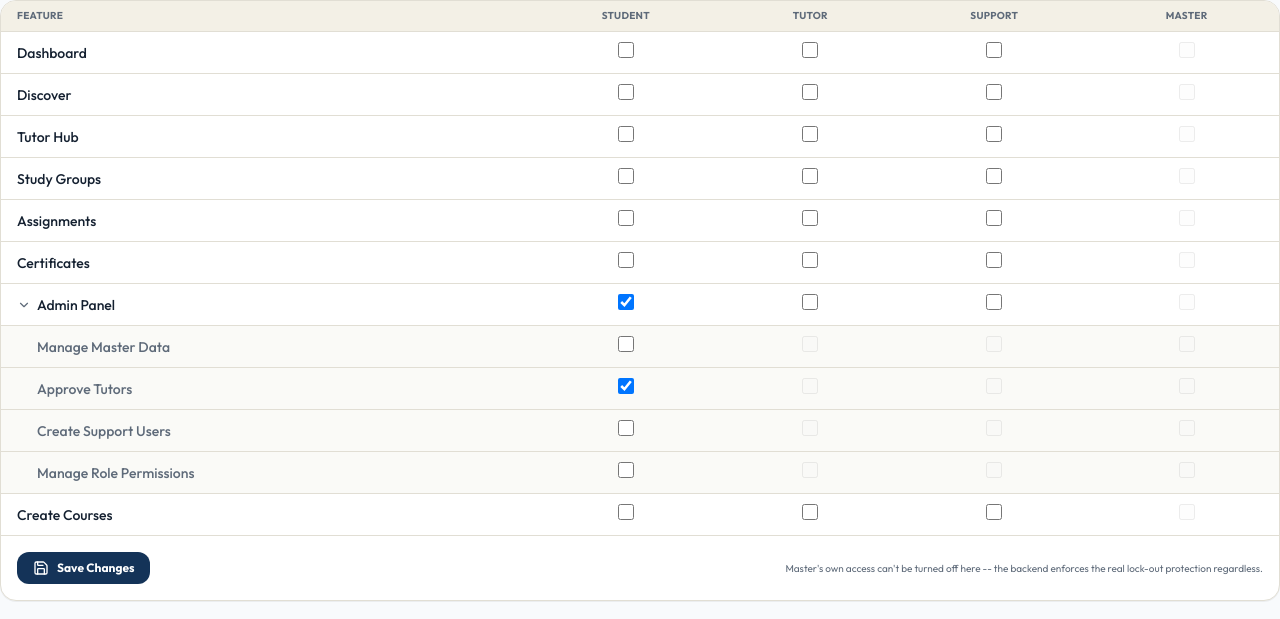
Test: RoleVisibilityManager › Admin permission tree › re-checking Admin for a role doesn't force its children back on -- they stay off until explicitly re-checked
Step 1. Click the checkbox named "Student - Admin Panel" → (626, 302), box [618,294,634,310]
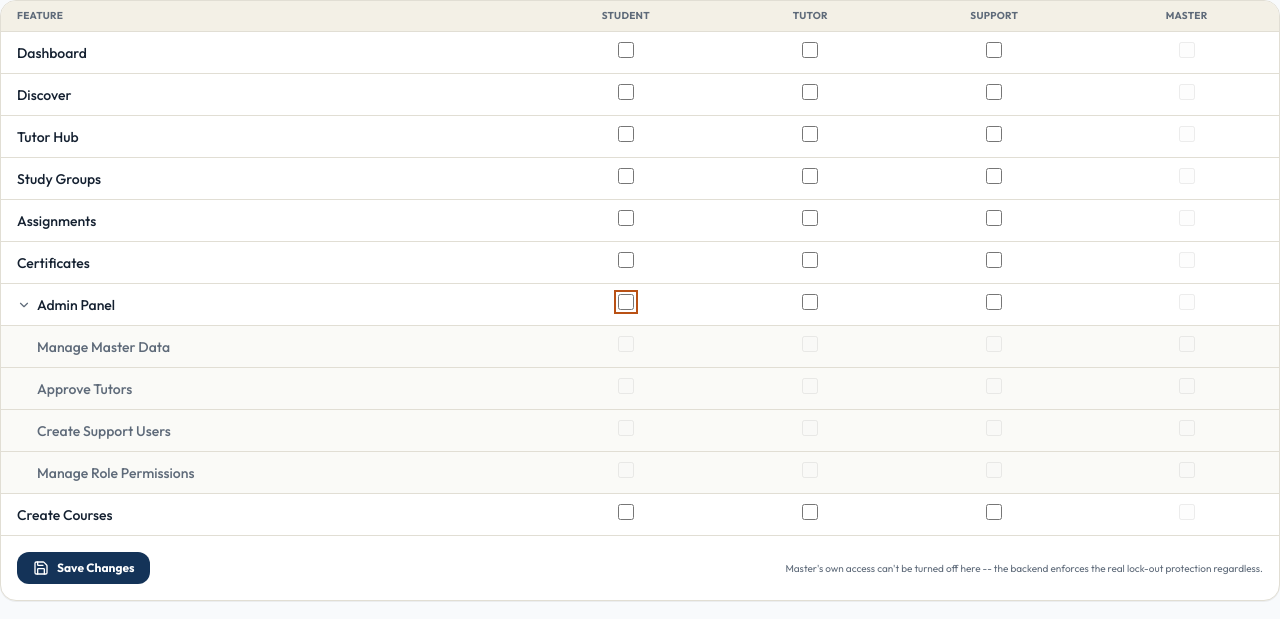
Step 2. Click the checkbox named "Student - Admin Panel" → (626, 302), box [618,294,634,310]
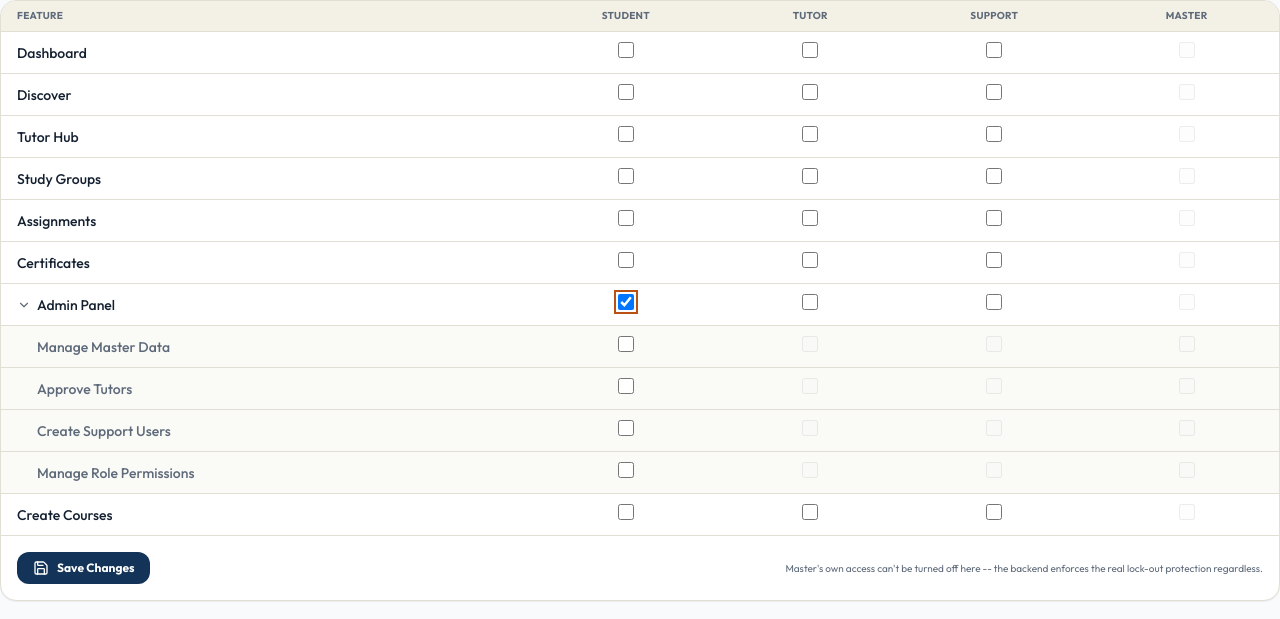
Expected: the checkbox named "Student - Admin Panel" is checked, [618,294,634,310]
Expected: the checkbox named "Student - Approve Tutors" is not checked, [618,378,634,394]
Expected: the checkbox named "Student - Approve Tutors" is enabled, [618,378,634,394]
